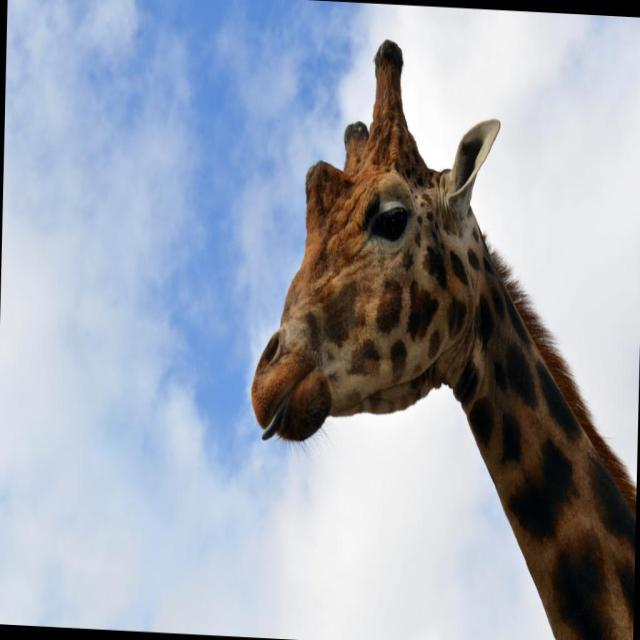Giraffe: (238, 23, 640, 639)
